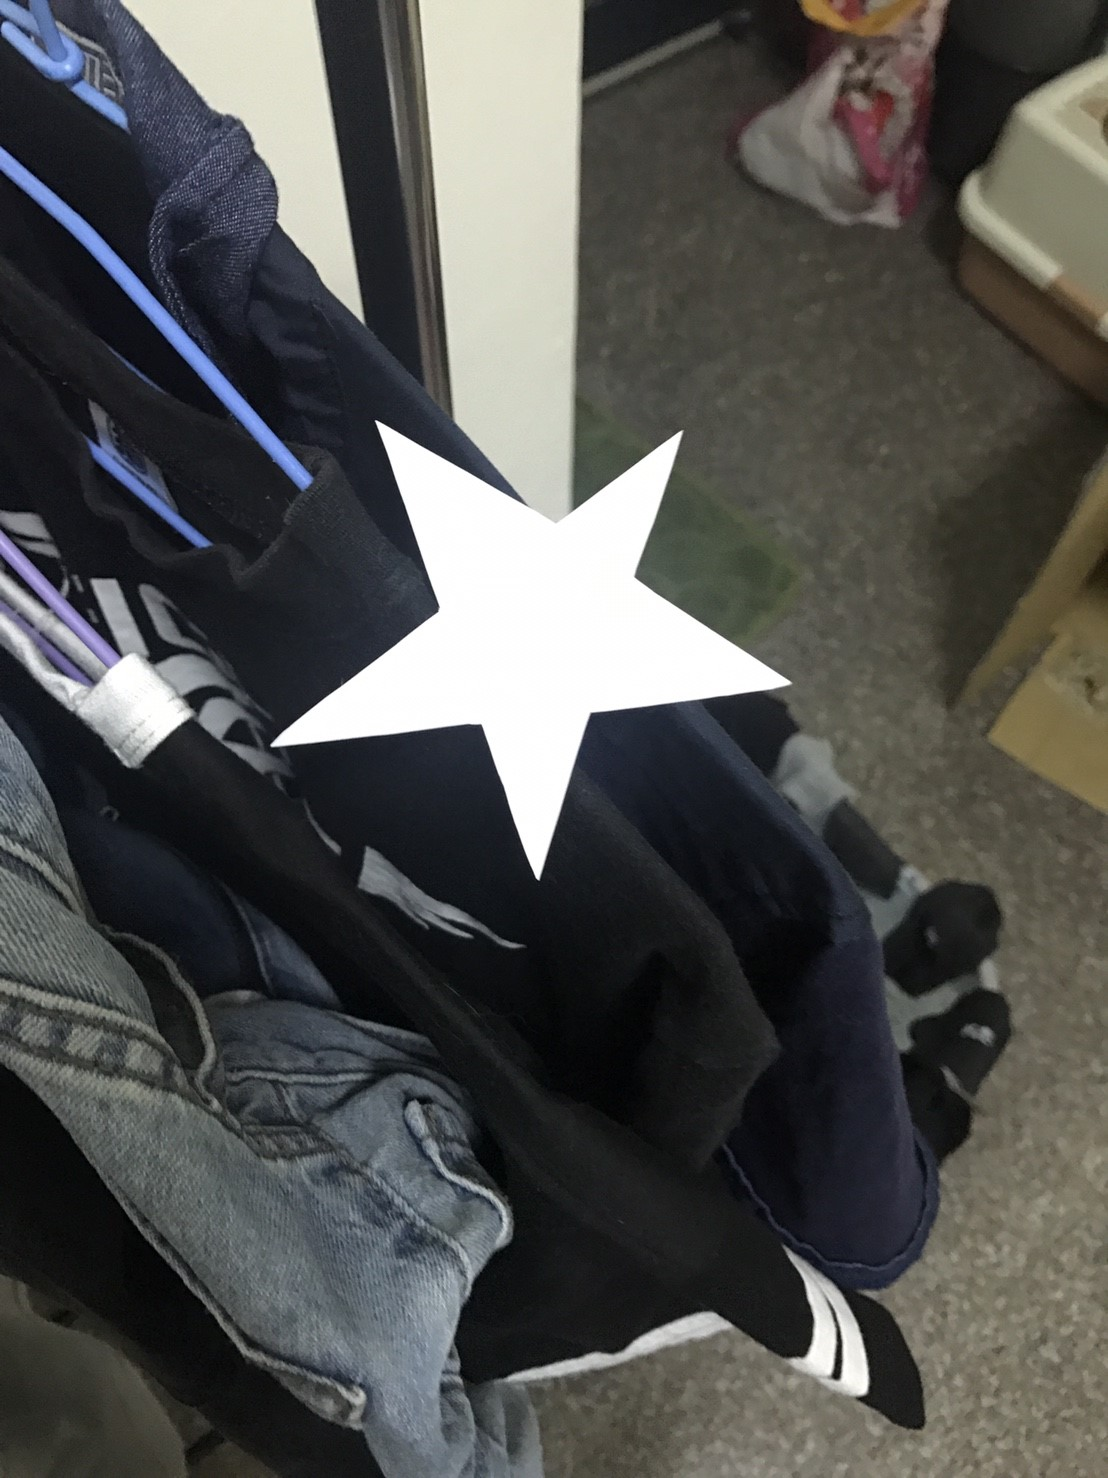star: (260, 381, 794, 900)
